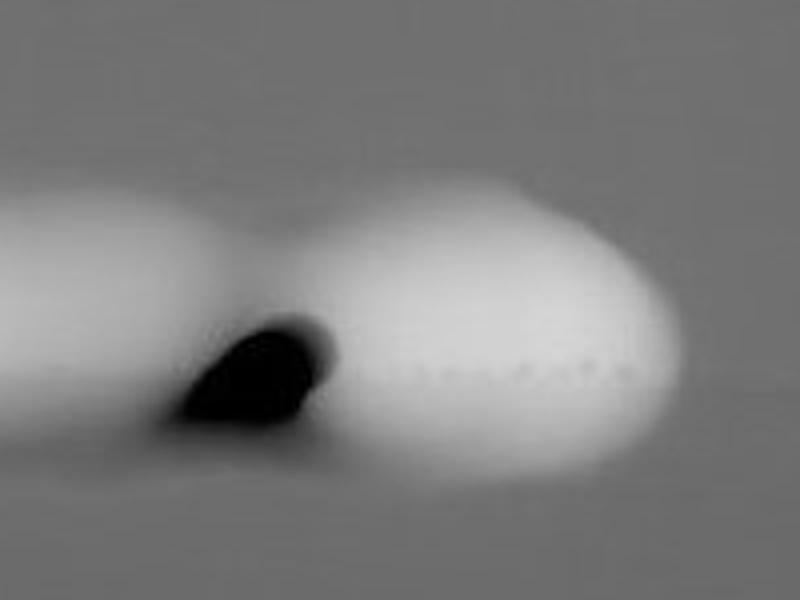defect: (171, 326, 337, 430), (618, 362, 644, 388), (514, 359, 540, 383), (577, 359, 597, 382)
